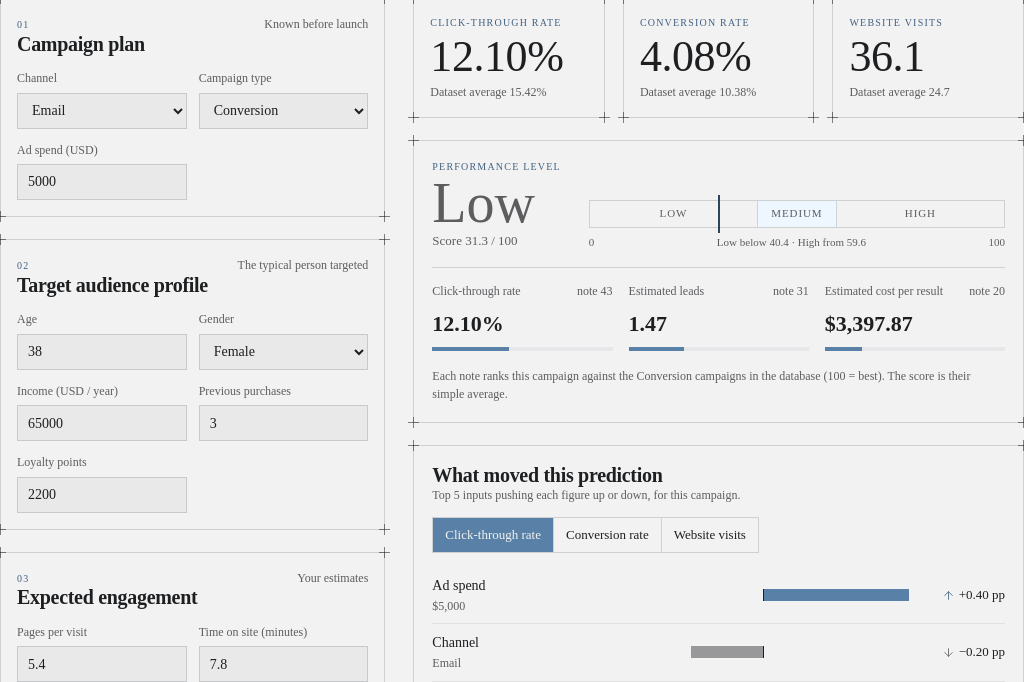
Test case: PredictView (live results, no Predict button) › changing the channel reloads the average engagement, editing an engagement field does not
Replace the text in the field labelled "Pages per visit" with "9". click: (102, 664)
box: [17,646,187,681]
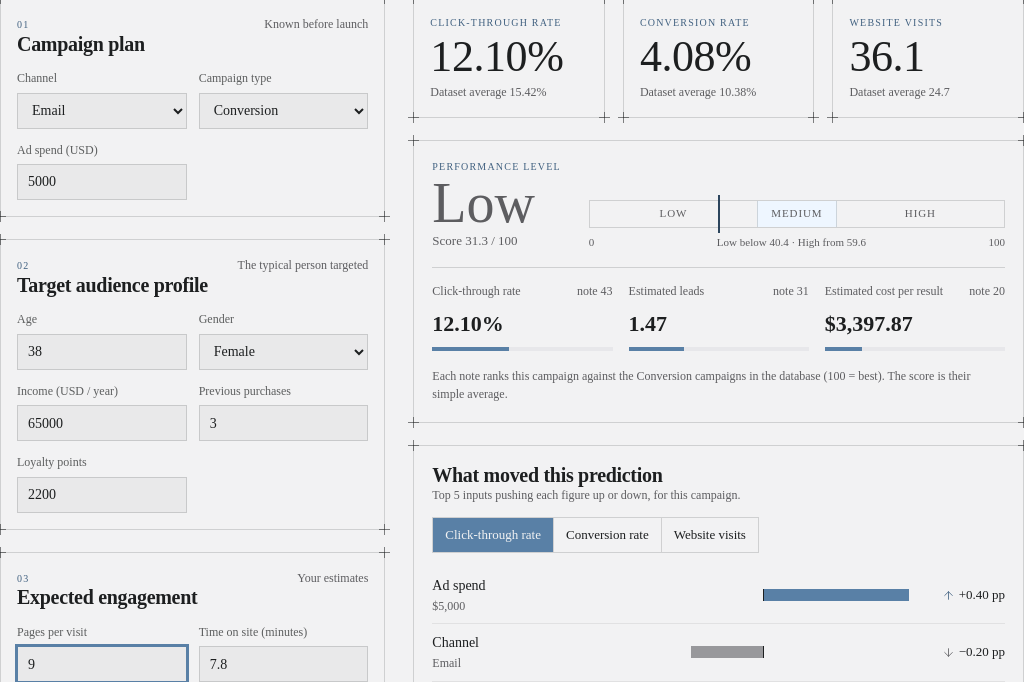
Select "PPC" in the dropdown labelled "Channel". click: (102, 111)
box: [17,93,187,129]
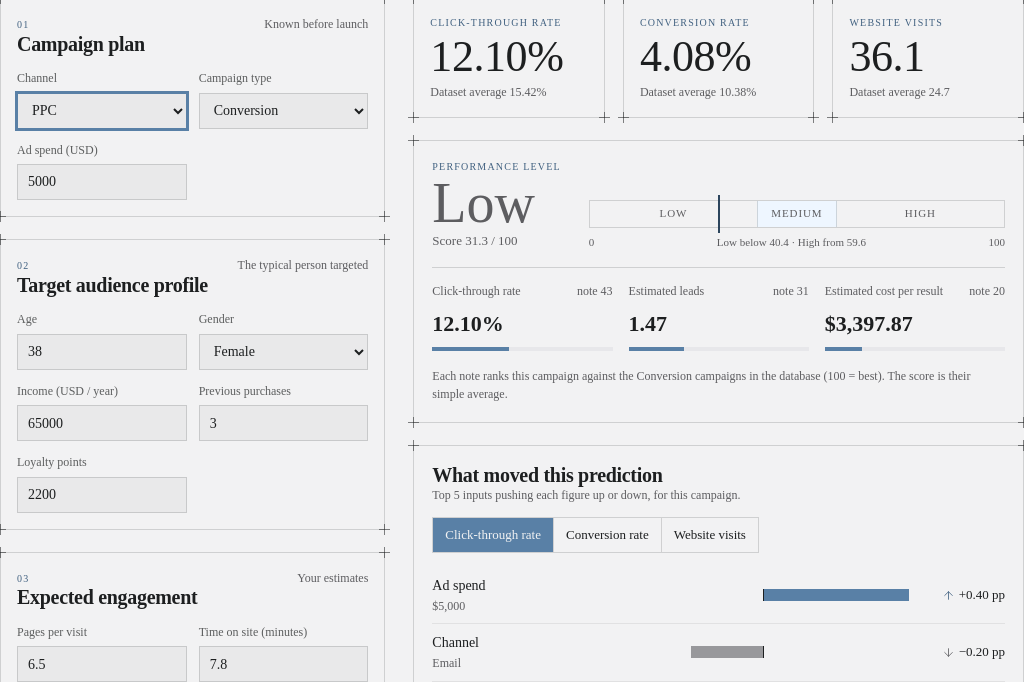
Expected: the field labelled "Pages per visit" holds "6.5"
Replace the text in the field labelled "Pages per visit" with "2". click: (102, 664)
box: [17,646,187,681]
(page scrolled)
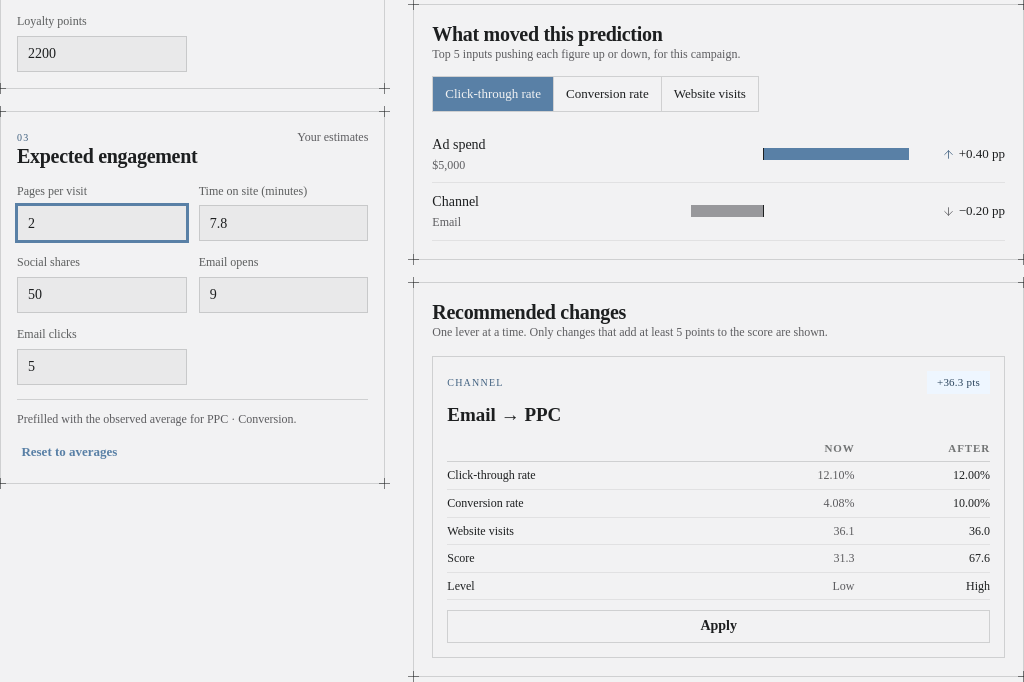
Click the button "Reset to averages". click: (69, 452)
box: [17,436,122,468]
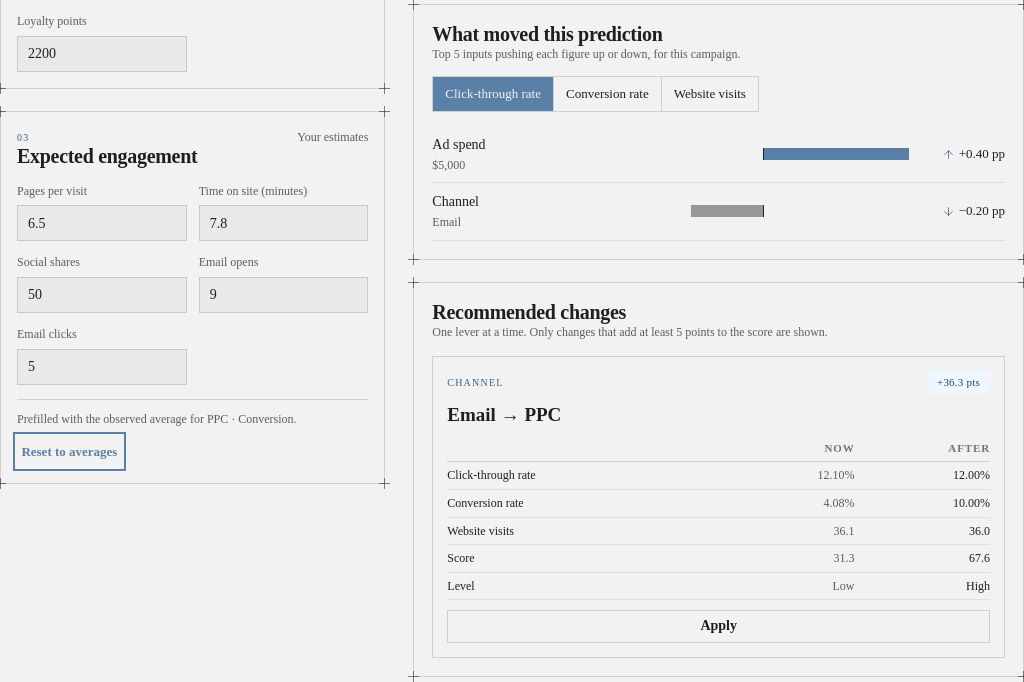
Expected: the field labelled "Pages per visit" holds "6.5", [17,206,187,242]
